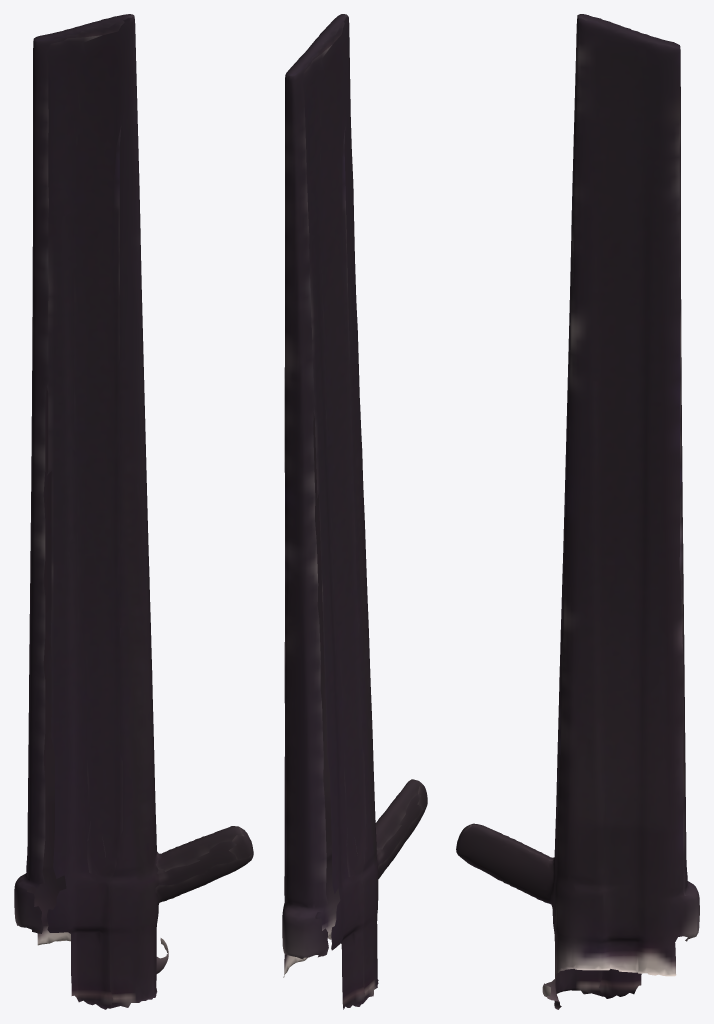
The model's file is HandToHandGrunt01_SeparatedBlade.fbx.
The picture shows the model from 3 angles, left to right: view 1: azimuth 90°, elevation 25°; view 2: azimuth 150°, elevation 25°; view 3: azimuth 270°, elevation 25°; orthographic projection. The views are drawn at different scales.
Parts seen in each view (by area): view 1: Grunt01_SeparatedBlade; view 2: Grunt01_SeparatedBlade; view 3: Grunt01_SeparatedBlade.
Part boxes in pixels (box(x1,y1,x2,y2)): Grunt01_SeparatedBlade: box(14, 14, 253, 1009); Grunt01_SeparatedBlade: box(282, 14, 427, 1009); Grunt01_SeparatedBlade: box(456, 14, 699, 1009).
Bounding box in the file's own units: 0.0186 × 0.2556 × 0.0566.
1 material, 1 textured.
